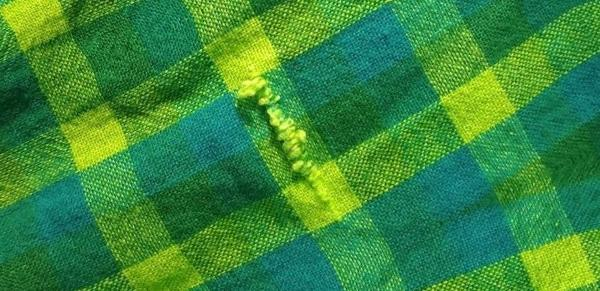knot: (225, 67, 345, 226)
